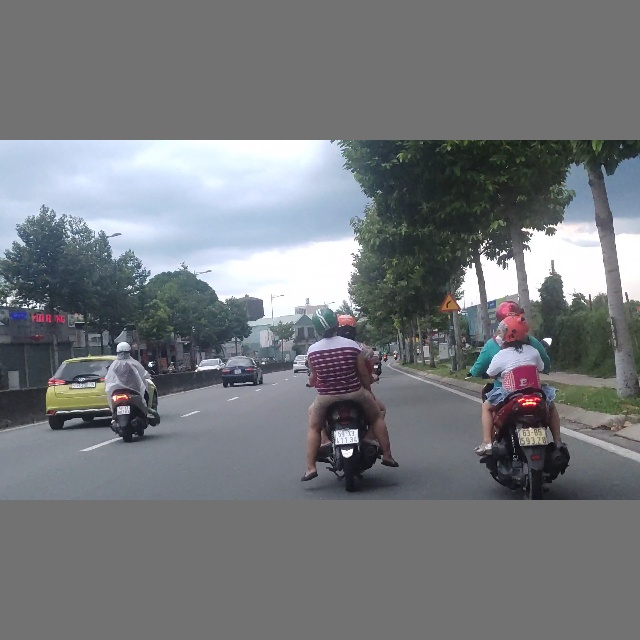W.201b: (439, 292, 462, 312)
